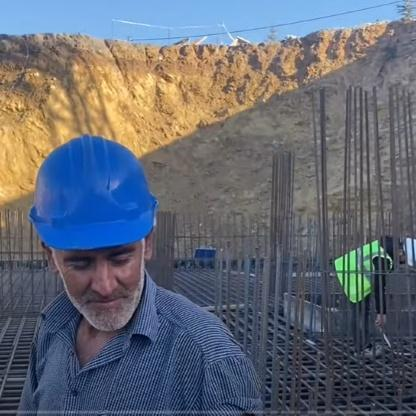helmet: (21, 123, 160, 337)
